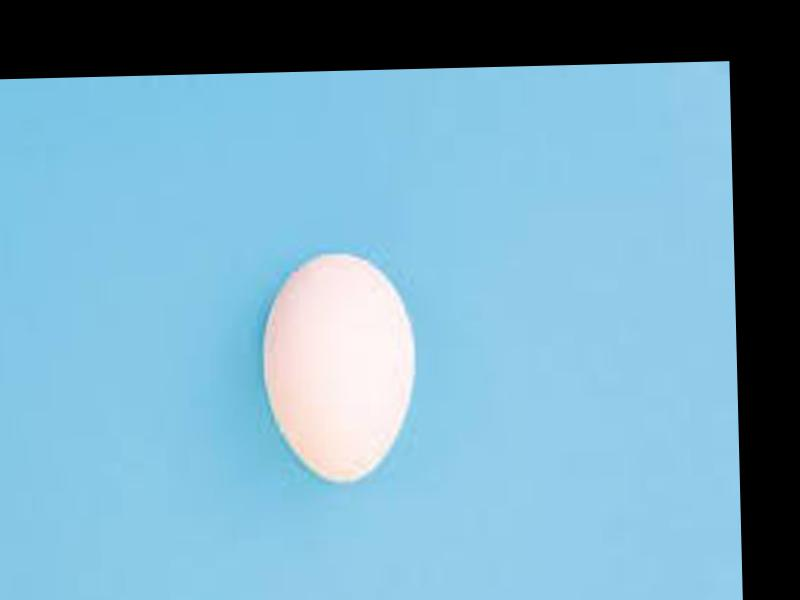Eggs: (259, 251, 415, 488)
